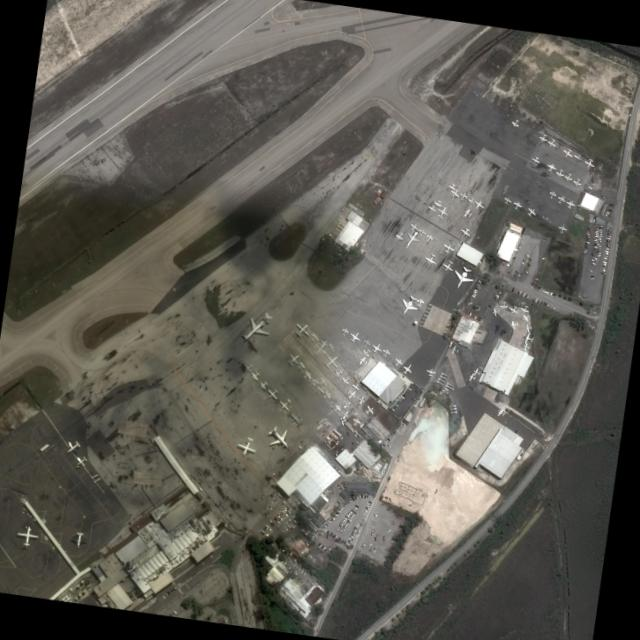large-vehicle: (94, 477, 101, 484), (446, 385, 454, 391), (91, 474, 99, 479), (441, 372, 448, 377), (440, 375, 447, 380), (438, 378, 445, 383), (437, 381, 444, 386), (447, 382, 454, 387), (442, 390, 449, 394), (451, 411, 458, 414), (450, 408, 456, 411), (450, 405, 456, 408)
plane: (236, 307, 279, 351), (263, 423, 296, 455), (447, 264, 478, 293), (396, 292, 422, 319), (400, 225, 425, 253), (235, 435, 260, 460), (16, 525, 39, 547), (292, 319, 314, 340), (321, 351, 343, 372), (63, 437, 84, 458), (309, 341, 330, 360), (70, 531, 88, 550), (286, 351, 303, 368), (277, 396, 294, 413), (348, 329, 364, 345), (440, 259, 457, 274), (265, 386, 280, 402), (435, 205, 451, 220), (470, 198, 486, 213), (423, 252, 439, 267), (288, 411, 303, 426), (400, 362, 415, 377), (75, 454, 89, 469), (370, 341, 384, 355), (441, 242, 456, 255), (561, 147, 575, 160), (459, 226, 473, 239), (522, 332, 535, 346), (582, 158, 597, 170), (525, 206, 538, 219), (257, 379, 269, 392), (364, 404, 376, 417), (346, 388, 358, 401), (495, 407, 507, 419), (309, 332, 321, 344), (318, 338, 330, 350), (243, 362, 255, 374), (250, 370, 262, 382), (508, 304, 520, 316), (520, 312, 532, 324), (545, 162, 558, 173), (449, 188, 462, 199), (554, 168, 566, 179), (318, 377, 330, 388), (357, 356, 369, 367), (393, 357, 405, 368), (394, 231, 406, 242), (511, 200, 523, 211), (564, 199, 576, 210), (510, 118, 521, 129), (538, 133, 549, 144), (563, 172, 574, 183), (302, 370, 313, 381), (361, 348, 372, 359), (315, 385, 326, 396), (341, 375, 352, 386), (341, 399, 352, 410), (332, 403, 343, 414), (462, 208, 473, 219), (424, 233, 435, 244), (509, 320, 520, 331), (546, 138, 558, 148), (339, 327, 351, 337), (334, 368, 344, 380), (555, 195, 567, 205), (408, 223, 420, 233), (416, 228, 428, 238), (572, 177, 583, 187), (310, 378, 321, 388), (296, 361, 307, 371), (326, 343, 336, 354), (361, 338, 372, 348), (531, 155, 542, 165), (340, 409, 350, 420), (351, 417, 362, 427), (351, 382, 362, 392), (381, 348, 392, 358), (447, 182, 458, 192), (547, 190, 558, 200), (356, 395, 366, 406), (450, 345, 460, 356), (467, 372, 477, 383), (519, 305, 531, 314), (322, 391, 332, 401), (472, 367, 482, 377), (573, 153, 584, 162), (426, 368, 437, 377), (427, 204, 438, 213), (433, 199, 444, 208), (502, 196, 513, 205), (557, 225, 568, 234), (306, 379, 316, 388), (459, 192, 469, 201), (416, 298, 425, 307), (491, 308, 500, 317), (524, 324, 533, 333), (434, 131, 444, 139), (467, 197, 477, 205), (339, 417, 347, 426), (500, 302, 508, 310), (523, 343, 531, 351)
small-vehicle: (542, 290, 550, 295), (287, 524, 292, 529), (276, 514, 281, 519), (278, 512, 283, 517), (593, 256, 598, 261), (400, 395, 405, 400), (270, 520, 274, 526), (475, 285, 481, 289), (587, 186, 593, 190), (284, 513, 289, 517), (293, 563, 298, 567), (306, 542, 310, 547), (339, 529, 344, 533), (342, 525, 347, 529), (339, 522, 344, 526), (341, 520, 345, 525), (351, 531, 356, 535), (350, 533, 355, 537), (322, 547, 327, 551), (323, 529, 328, 533), (349, 535, 354, 539), (343, 517, 348, 521), (594, 228, 599, 232), (588, 269, 593, 273), (591, 262, 596, 266), (583, 250, 587, 255), (603, 254, 608, 258), (402, 394, 407, 398), (511, 287, 515, 292), (488, 304, 493, 308), (604, 252, 609, 256), (313, 533, 317, 538), (318, 511, 323, 515), (361, 544, 366, 548), (368, 543, 373, 547), (327, 520, 332, 524), (549, 292, 553, 297), (495, 294, 500, 298), (388, 453, 393, 457), (401, 423, 406, 427), (600, 272, 606, 275), (277, 520, 281, 524), (289, 523, 293, 527), (281, 516, 285, 520), (280, 511, 284, 515), (282, 510, 286, 514), (283, 508, 287, 512), (291, 515, 295, 519), (303, 572, 307, 576), (278, 519, 282, 523), (336, 528, 340, 532), (342, 528, 346, 532), (344, 523, 348, 527), (346, 520, 350, 524), (348, 518, 352, 522), (354, 511, 358, 515), (318, 544, 322, 548), (320, 545, 324, 549), (326, 531, 330, 535), (331, 534, 335, 538), (345, 515, 349, 519), (346, 514, 350, 518), (586, 241, 590, 245), (585, 242, 589, 246), (494, 296, 498, 300), (264, 527, 268, 531), (387, 444, 391, 448), (538, 288, 542, 292), (356, 534, 360, 538), (282, 501, 286, 505), (355, 243, 359, 247), (261, 529, 265, 533), (365, 504, 369, 508), (354, 506, 358, 510), (364, 509, 368, 513), (325, 523, 329, 527), (372, 550, 376, 554), (522, 293, 526, 297), (516, 270, 520, 274), (524, 270, 528, 274), (530, 282, 534, 286), (393, 431, 397, 435), (395, 429, 399, 433), (352, 442, 356, 446), (391, 408, 395, 412), (353, 527, 358, 530), (354, 525, 359, 528), (355, 523, 360, 526), (350, 515, 355, 518), (352, 529, 357, 532), (328, 547, 331, 552), (330, 532, 333, 537), (333, 534, 336, 539), (335, 535, 338, 540), (339, 538, 342, 543), (341, 539, 344, 544), (586, 233, 591, 236), (596, 255, 601, 258), (596, 243, 601, 246), (593, 239, 598, 242), (598, 229, 603, 232), (598, 233, 603, 236), (524, 254, 529, 257), (541, 257, 546, 260), (590, 278, 595, 281), (601, 269, 606, 272), (603, 257, 608, 260), (474, 315, 477, 320), (469, 312, 472, 317), (473, 289, 478, 292), (476, 283, 481, 286), (468, 302, 473, 305), (604, 250, 609, 253), (605, 244, 610, 247), (605, 242, 610, 245), (606, 237, 611, 240), (172, 611, 177, 614), (367, 480, 372, 483), (365, 507, 370, 510), (366, 503, 371, 506), (519, 290, 522, 295), (535, 298, 538, 303), (534, 278, 539, 281), (383, 536, 386, 541), (387, 530, 392, 533), (373, 514, 378, 517), (407, 388, 412, 391), (283, 515, 287, 518), (285, 521, 288, 525), (288, 519, 292, 522), (301, 570, 304, 574), (298, 567, 301, 571), (296, 565, 299, 569), (265, 525, 269, 528), (293, 559, 297, 562), (292, 557, 296, 560), (345, 522, 349, 525), (349, 517, 353, 520), (352, 513, 356, 516), (338, 525, 342, 528), (328, 532, 331, 536), (327, 554, 331, 557), (346, 542, 349, 546), (349, 538, 353, 541), (343, 519, 346, 523), (588, 228, 591, 232), (591, 253, 595, 256), (597, 252, 601, 255), (593, 246, 597, 249), (598, 245, 602, 248), (598, 238, 602, 241), (594, 235, 598, 238), (595, 233, 599, 236), (599, 231, 603, 234), (586, 235, 590, 238), (527, 263, 530, 267), (529, 258, 532, 262), (591, 259, 595, 262), (602, 267, 606, 270), (603, 263, 607, 266), (603, 261, 607, 264), (599, 235, 603, 238), (412, 398, 416, 401), (471, 295, 475, 298), (472, 293, 476, 296), (473, 291, 477, 294), (524, 259, 528, 262), (263, 528, 267, 531), (391, 433, 394, 437), (607, 233, 611, 236), (607, 235, 611, 238), (318, 532, 321, 536), (605, 211, 609, 214), (369, 549, 373, 552), (364, 532, 367, 536), (260, 531, 264, 534), (332, 517, 336, 520), (347, 513, 351, 516), (349, 511, 353, 514), (351, 509, 354, 513), (355, 505, 359, 508), (368, 501, 372, 504), (364, 495, 367, 499), (358, 495, 361, 499), (354, 496, 357, 500), (521, 292, 524, 296), (525, 294, 528, 298), (537, 300, 540, 304), (543, 302, 546, 306), (544, 303, 547, 307), (518, 274, 521, 278), (533, 281, 537, 284), (517, 290, 520, 294), (340, 437, 343, 441), (383, 444, 386, 448), (391, 522, 395, 525), (389, 498, 392, 502), (387, 438, 391, 441), (384, 441, 387, 445), (602, 266, 607, 268), (606, 230, 611, 232), (593, 219, 595, 224), (344, 505, 349, 507), (374, 537, 376, 542), (280, 518, 283, 521), (307, 580, 310, 583), (338, 527, 341, 530), (595, 230, 598, 233), (585, 246, 588, 249), (523, 260, 526, 263), (393, 407, 396, 410), (269, 529, 272, 532), (521, 262, 524, 265), (335, 514, 338, 517), (357, 530, 360, 533), (352, 508, 355, 511), (366, 495, 369, 498), (352, 498, 355, 501), (526, 295, 529, 298), (395, 404, 398, 407), (326, 534, 328, 538), (344, 541, 346, 545), (512, 257, 516, 259), (593, 244, 597, 246), (469, 300, 473, 302), (605, 248, 609, 250), (606, 240, 610, 242), (599, 225, 603, 227), (604, 214, 608, 216), (337, 511, 341, 513), (339, 509, 343, 511), (341, 507, 345, 509), (373, 547, 377, 549), (333, 516, 337, 518), (329, 519, 333, 521), (361, 495, 363, 499), (371, 532, 373, 536), (533, 298, 535, 302), (541, 301, 543, 305), (547, 304, 549, 308), (598, 248, 601, 250), (587, 230, 589, 233), (336, 513, 339, 515), (553, 307, 555, 310), (385, 497, 388, 499), (590, 276, 595, 277), (595, 242, 599, 243), (346, 504, 350, 505), (377, 535, 378, 538)
